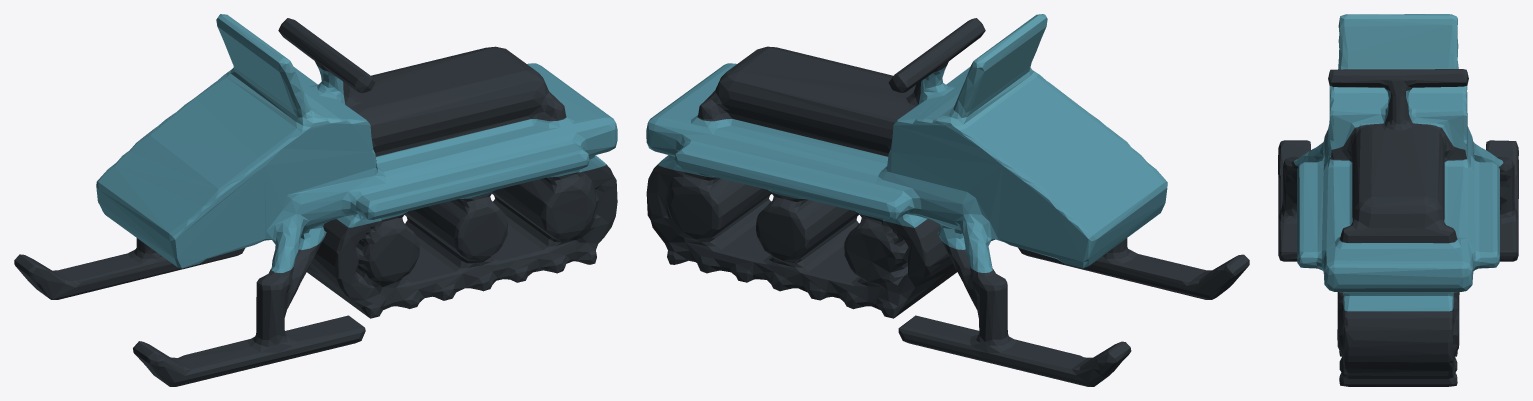
Rendered from NEW_RECOVERY_111_LOD2.fbx.
The picture shows the model from 3 angles, left to right: view 1: azimuth 30°, elevation 25°; view 2: azimuth 150°, elevation 25°; view 3: azimuth 270°, elevation 25°; orthographic projection. The views are drawn at different scales.
Visible parts, largest first — view 1: Snowmobile_Static_Fused; view 2: Snowmobile_Static_Fused; view 3: Snowmobile_Static_Fused.
Part boxes in pixels (<box>): Snowmobile_Static_Fused: <box>14,14,617,386</box>; Snowmobile_Static_Fused: <box>646,14,1249,386</box>; Snowmobile_Static_Fused: <box>1278,14,1518,386</box>.
Bounding box in the file's own units: 333 × 158 × 175.
